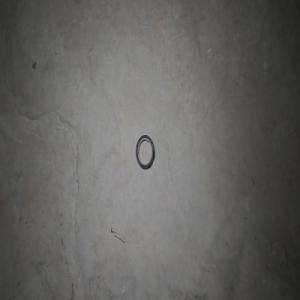Tape: (135, 134, 155, 169)
